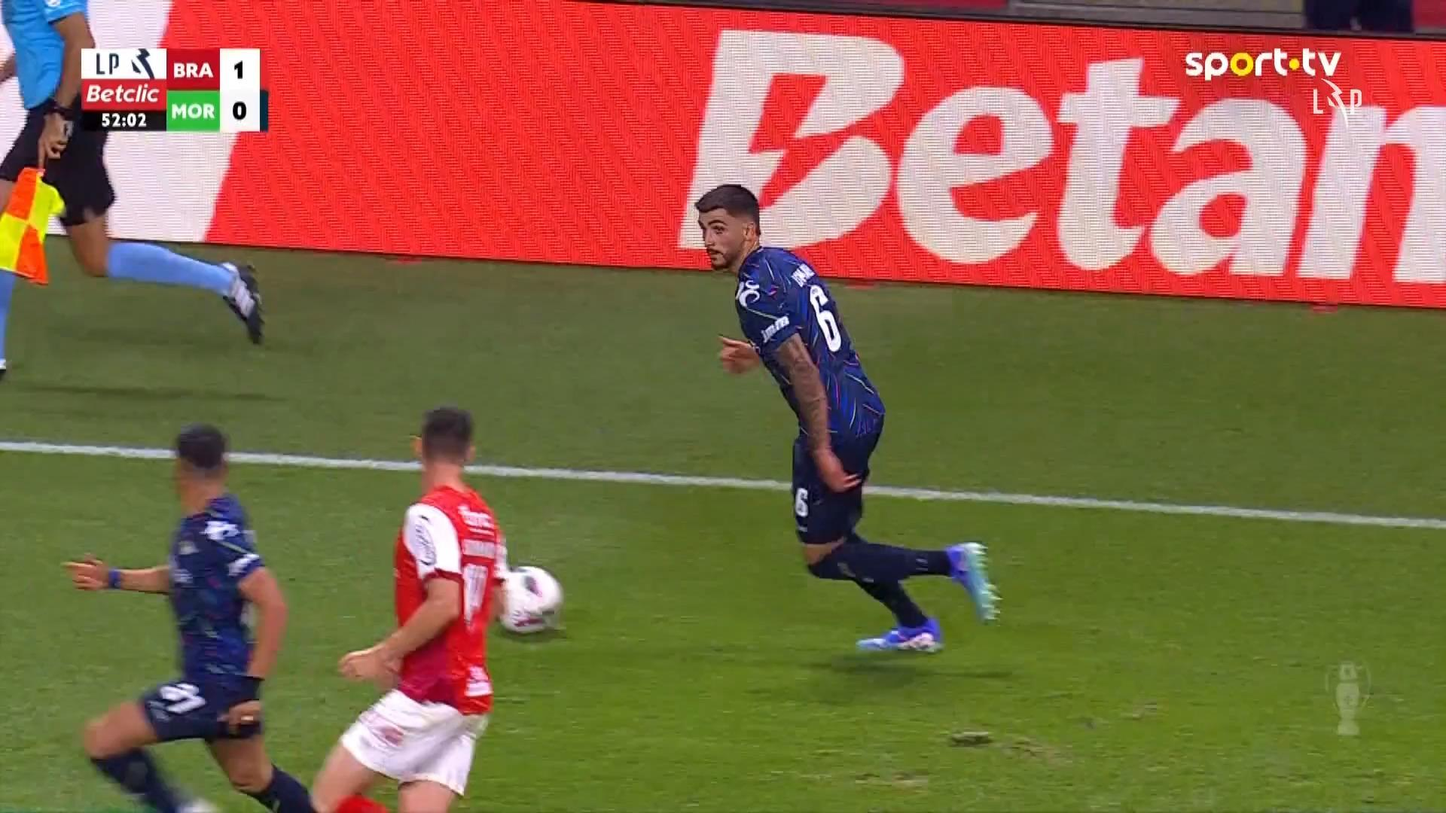ball: (495, 564, 563, 635)
player: (692, 181, 1002, 655), (60, 422, 316, 811), (308, 404, 513, 811)
referee: (0, 1, 266, 376)
